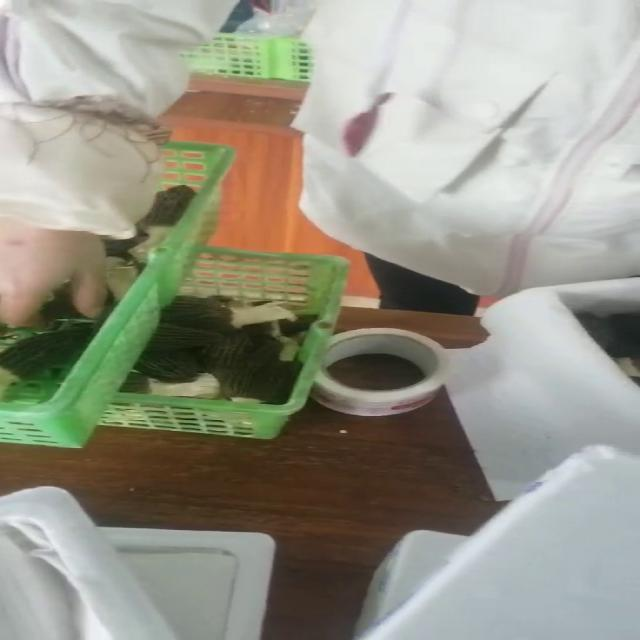Morchella esculenta: (155, 290, 297, 408)
